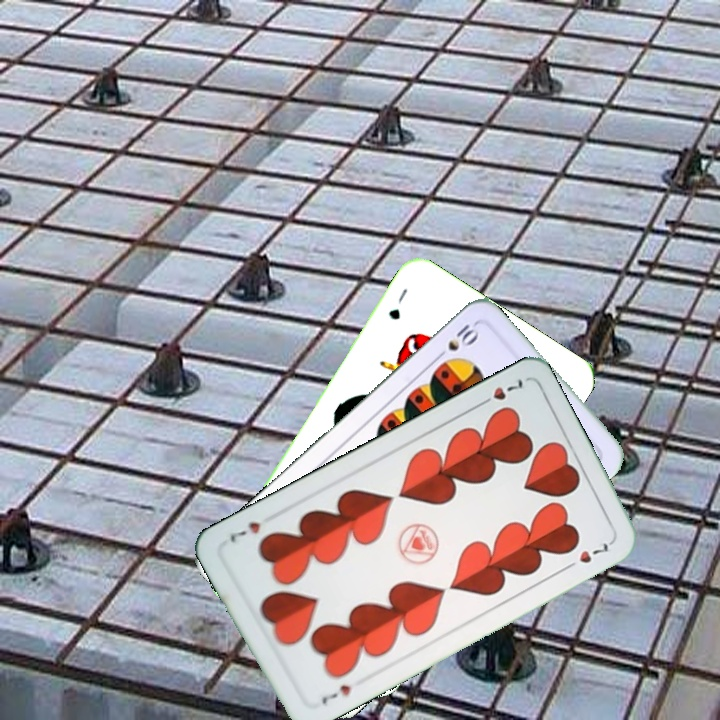GU: (384, 284, 410, 323)
H7: (473, 375, 526, 410), (317, 680, 353, 707)
S10: (431, 319, 482, 363)
